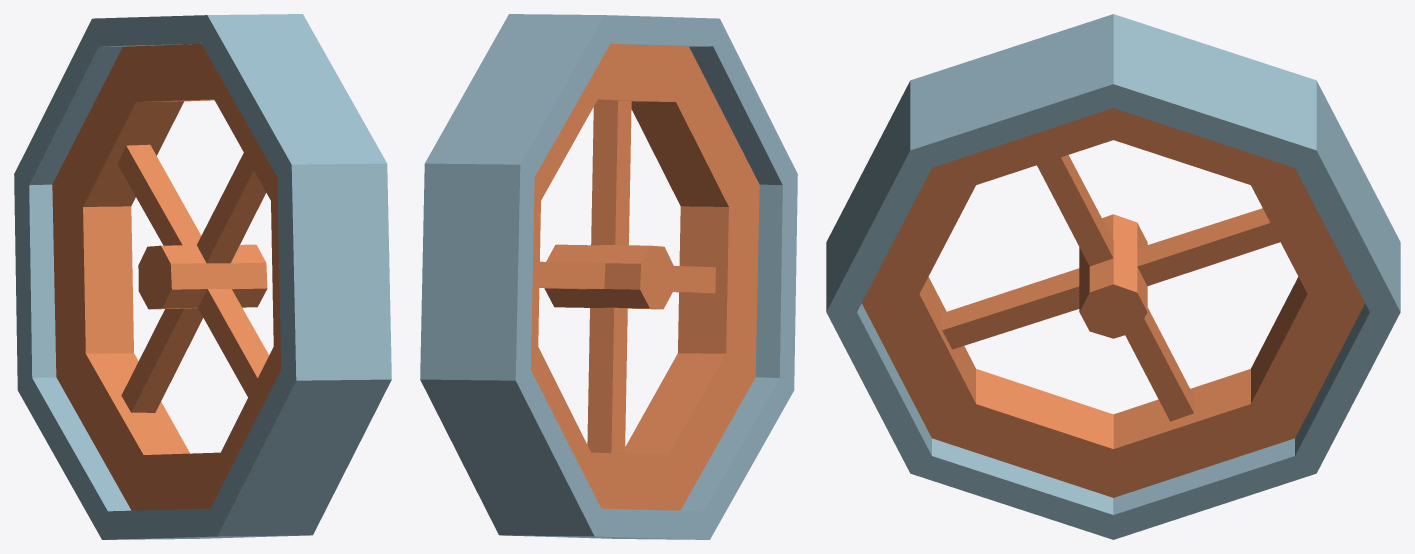
File: wheel.obj
The picture shows the model from 3 angles, left to right: view 1: azimuth 30°, elevation 25°; view 2: azimuth 150°, elevation 25°; view 3: azimuth 270°, elevation 25°; orthographic projection.
Parts seen in each view (by area): view 1: wheel; view 2: wheel; view 3: wheel.
Part boxes in pixels (x1,y1,x2,y2): wheel: (14, 14, 391, 539); wheel: (420, 14, 797, 539); wheel: (826, 14, 1400, 539).
Bounding box in the file's own units: 0.208 × 0.516 × 0.506.
